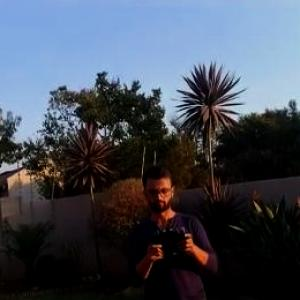follow: (122, 156, 225, 299)
